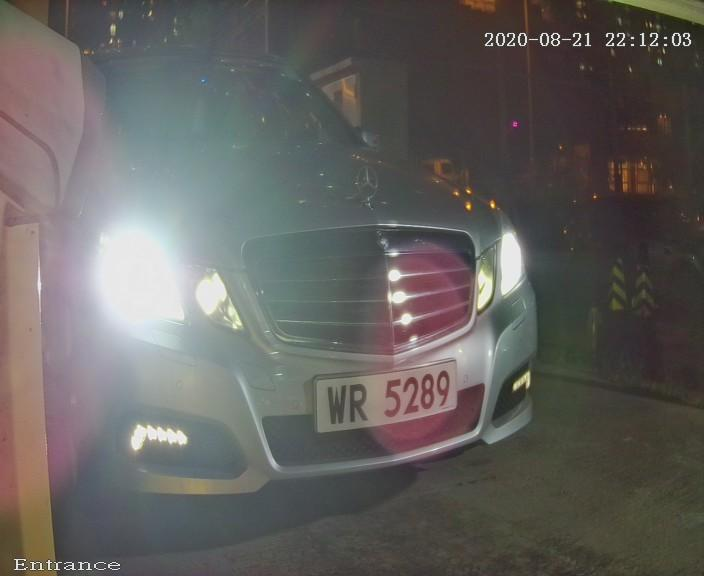Car: (10, 8, 610, 546)
License Plate: (290, 342, 484, 447)
